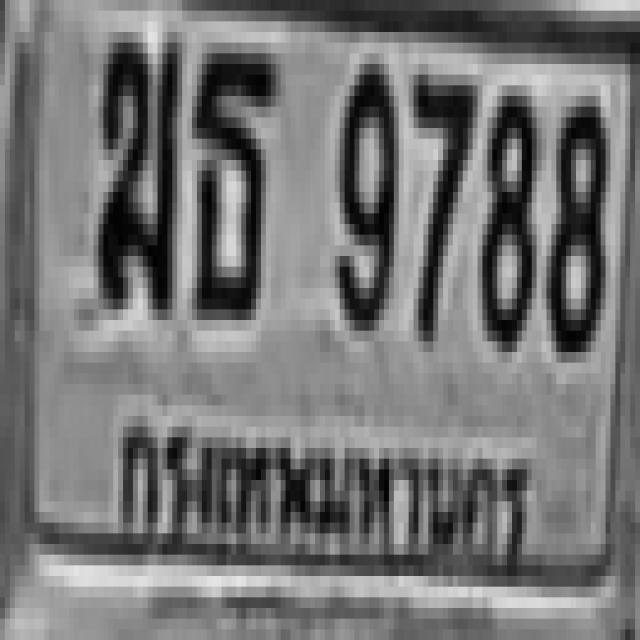15KhorRaKhang: (94, 27, 177, 304)
33ThorThong: (187, 43, 271, 309)
7: (408, 64, 468, 331)
8: (542, 86, 606, 342), (478, 86, 532, 342)
9: (330, 53, 394, 320)
Bangkok: (107, 396, 536, 601)
